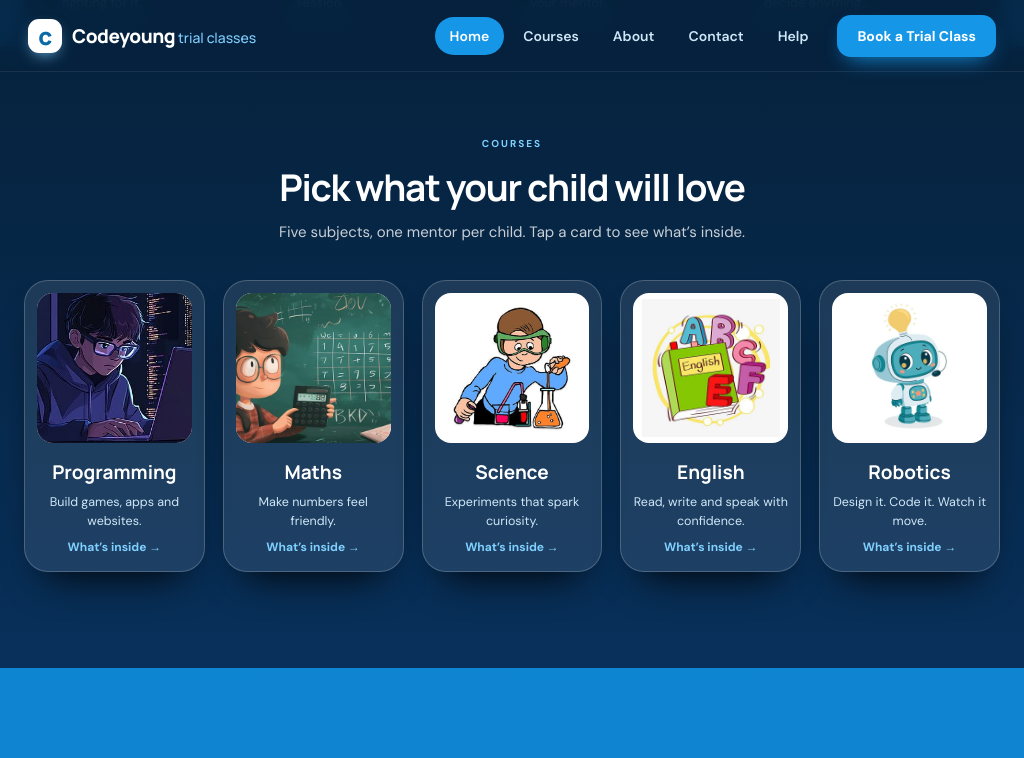
Scenario: home page and navigation › expands a course card and subscribes/sends comments as harmless demos
(page scrolled)
Click the button "Programming Build games, apps and websites. What’s inside".
click(114, 426)  # box [25, 281, 204, 571]
(page scrolled)
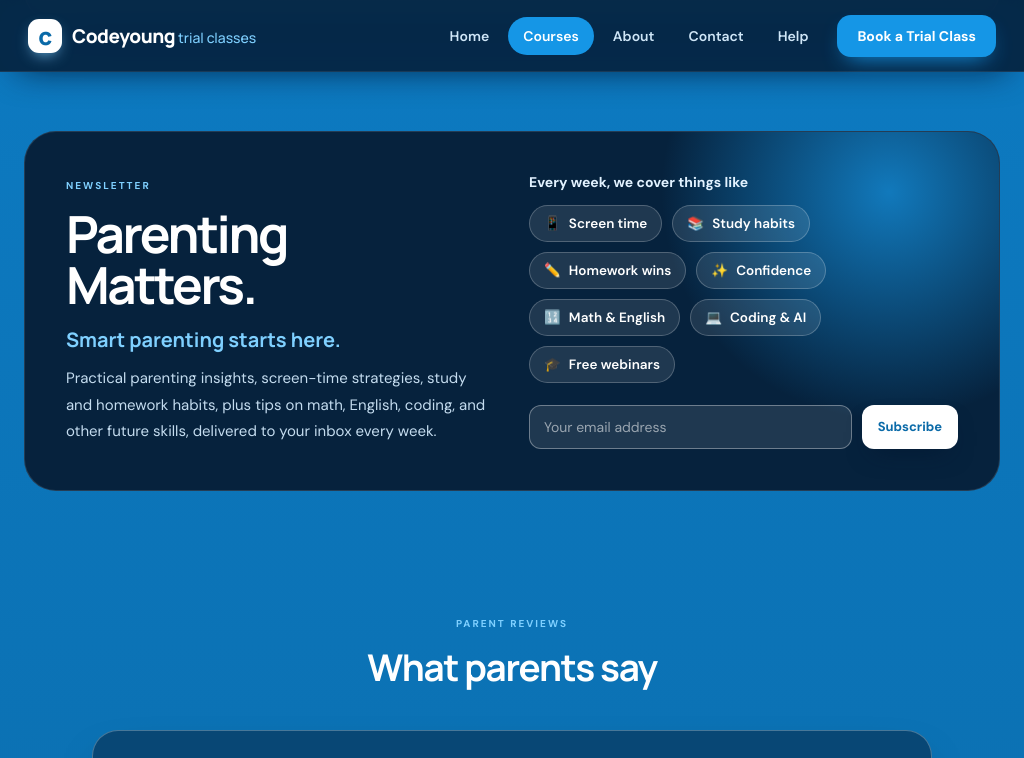
Type "a@b.co" into the field named "newsletter email".
click(690, 427); type("a@b.co")  # box [529, 405, 852, 449]
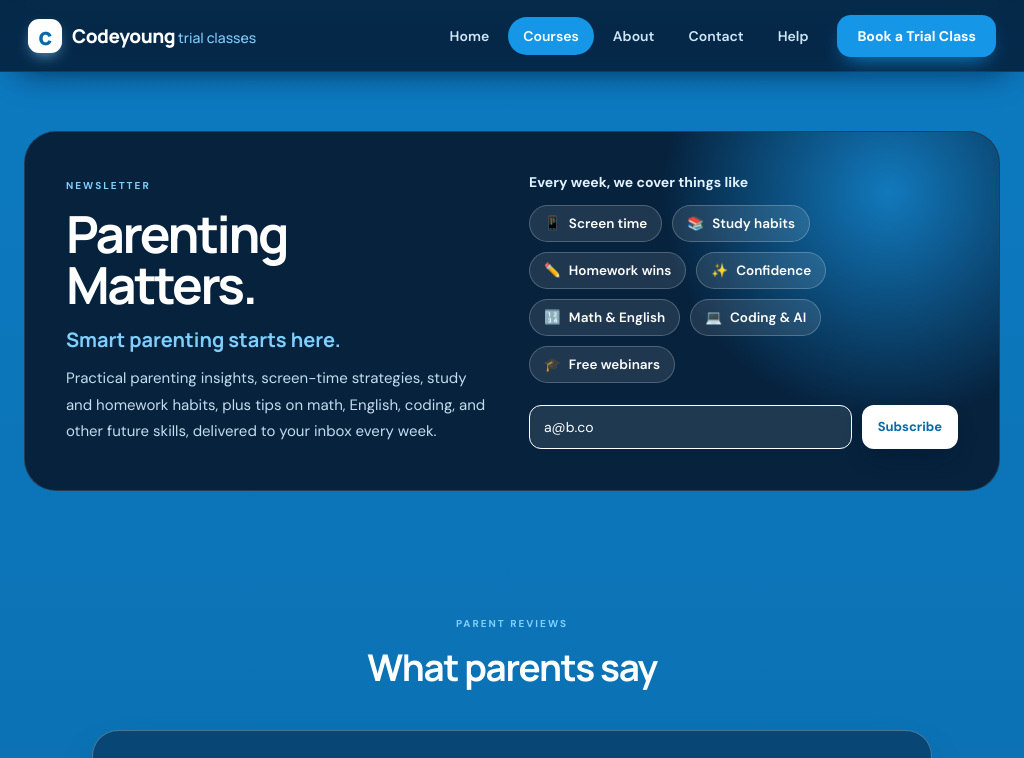
Click the button "Subscribe".
click(910, 427)  # box [862, 405, 958, 449]
(page scrolled)
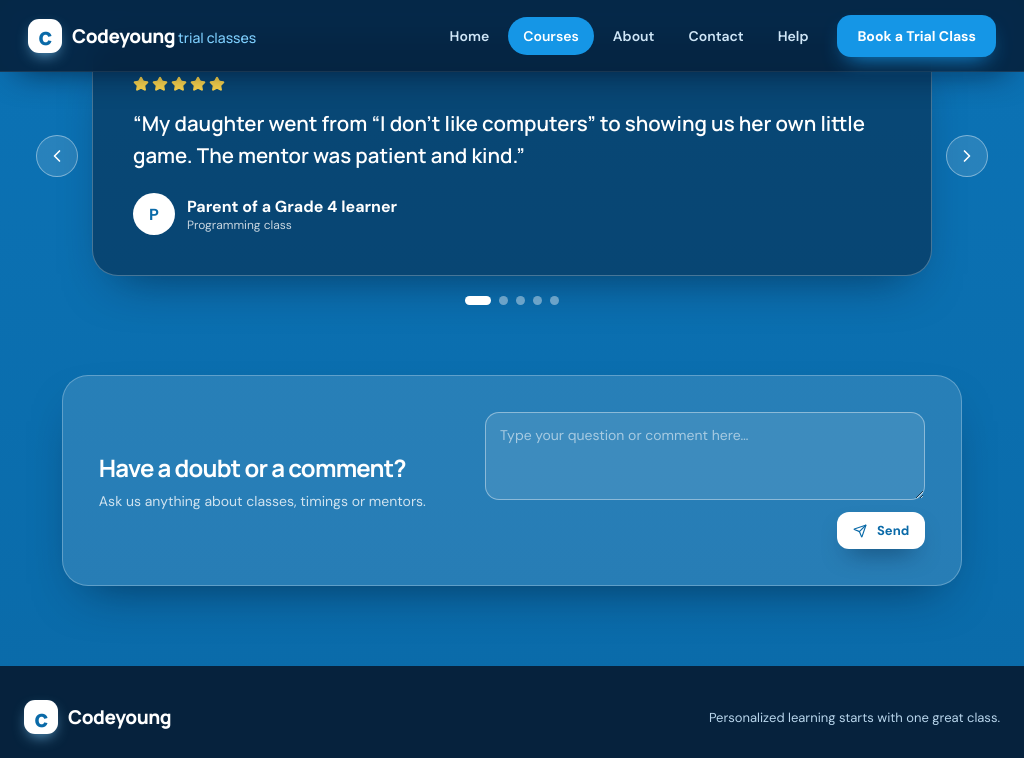
Type "Hello?" into the text box labelled "Type your question or comment here…".
click(705, 456); type("Hello?")  # box [485, 412, 925, 500]
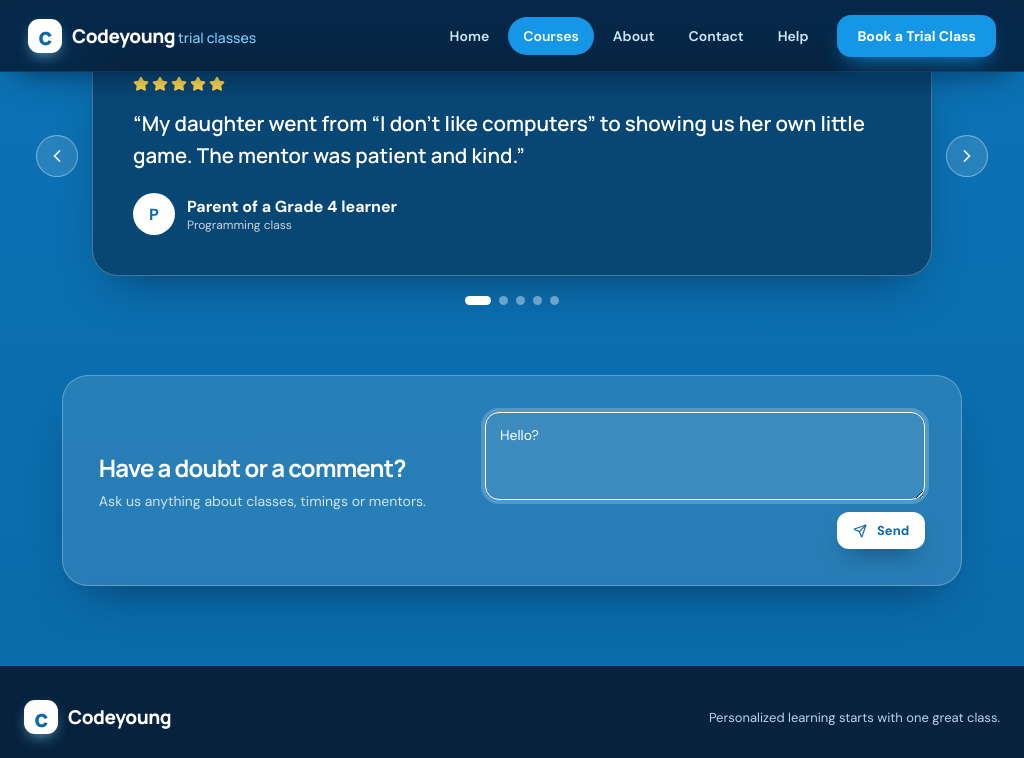
Click the button "Send".
click(881, 531)  # box [837, 512, 925, 549]
(page scrolled)
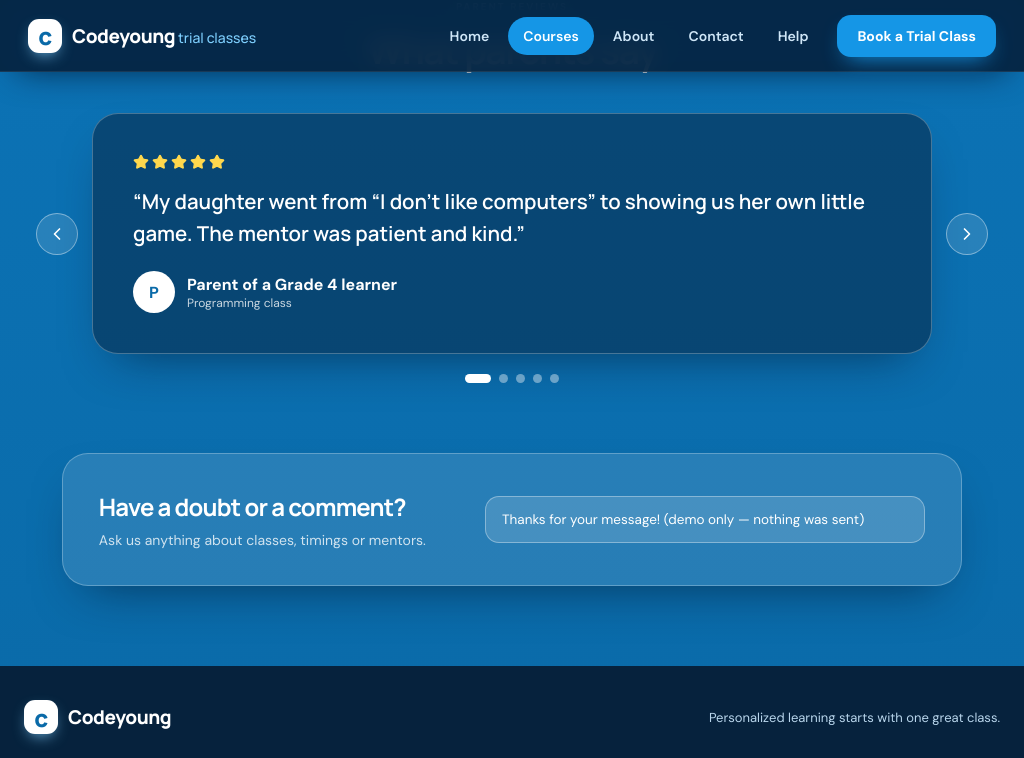
Now the text "Thanks for your message! (demo only — nothing was sent)" is shown, box [485, 496, 925, 543]
